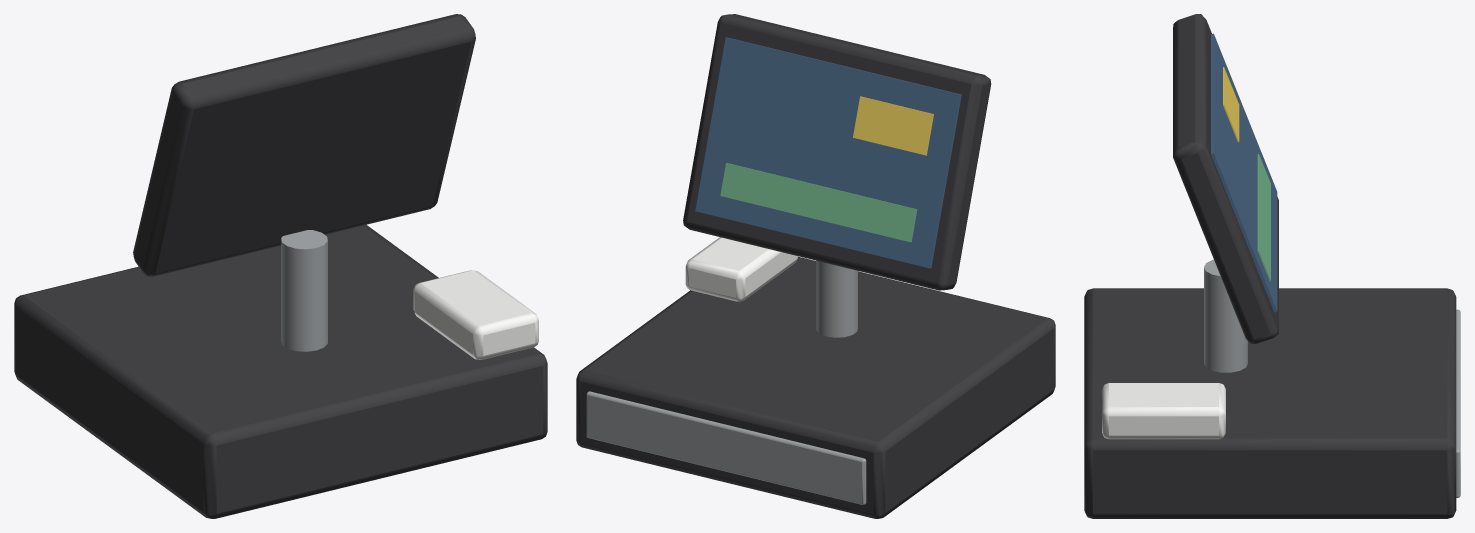
The model's file is PosRegister.fbx.
3 views of the same model, side by side, from view 1: azimuth 30°, elevation 25°; view 2: azimuth 150°, elevation 25°; view 3: azimuth 270°, elevation 25° (orthographic). The views are drawn at different scales.
Parts seen in each view (by area): view 1: PosRegister; view 2: PosRegister; view 3: PosRegister.
Boxes of the visible parts, bbox=[...] form: PosRegister: bbox=[14, 14, 547, 518]; PosRegister: bbox=[576, 14, 1055, 518]; PosRegister: bbox=[1084, 14, 1460, 518].
Size of the model in its own units: 0.42 by 0.4556 by 0.425.
